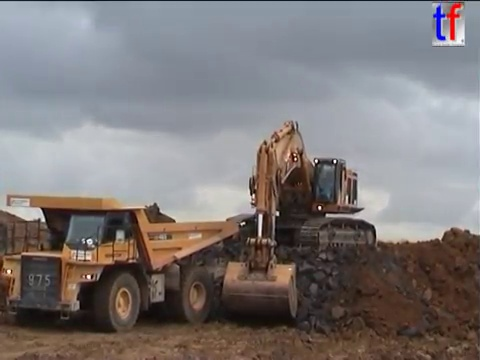excavator: (218, 117, 380, 322)
truck: (1, 192, 241, 334)
